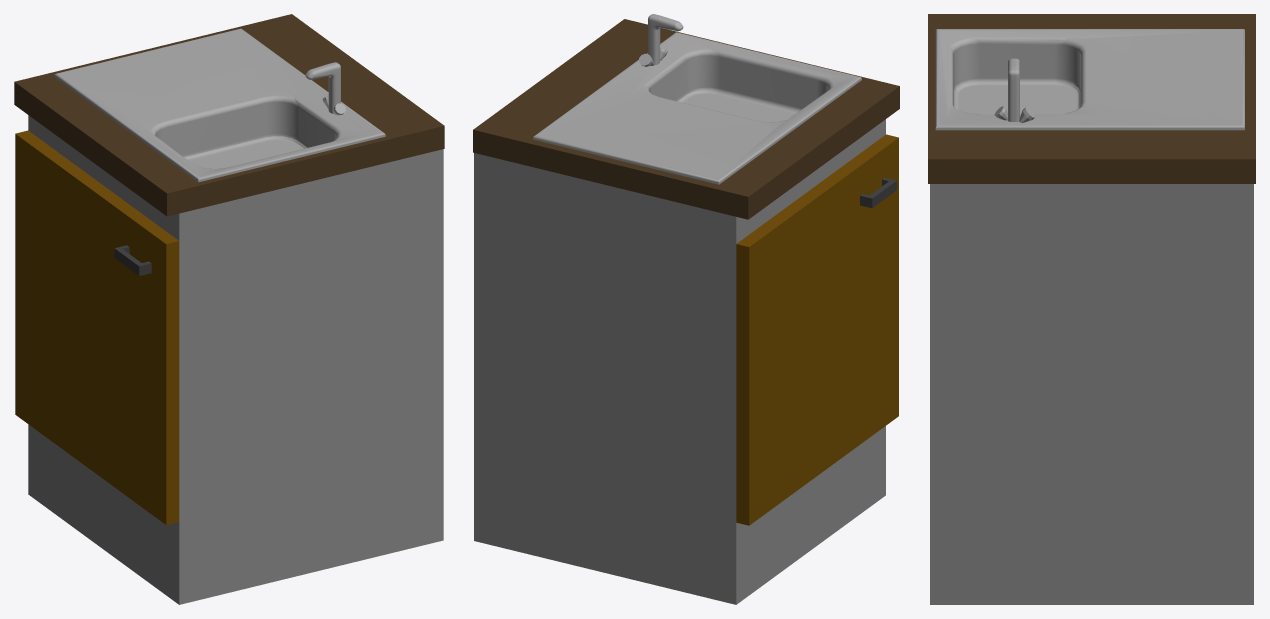
File: KitchenCounterSink.fbx
3 views of the same model, side by side, from view 1: azimuth 30°, elevation 25°; view 2: azimuth 150°, elevation 25°; view 3: azimuth 270°, elevation 25° (orthographic). The views are drawn at different scales.
Visible parts, largest first — view 1: pCube10, pCube9, pCube12, pCube11; view 2: pCube10, pCube9, pCube12, pCube11; view 3: pCube10, pCube9, pCube12.
Boxes of the visible parts, box(x1,y1,x2,y2) form: pCube10: box(14, 14, 444, 604); pCube9: box(54, 28, 385, 182); pCube12: box(305, 62, 340, 113); pCube11: box(114, 245, 151, 275); pCube10: box(473, 19, 899, 604); pCube9: box(533, 32, 861, 184); pCube12: box(648, 14, 683, 64); pCube11: box(860, 177, 896, 208); pCube10: box(928, 14, 1255, 604); pCube9: box(935, 29, 1244, 130); pCube12: box(1008, 58, 1019, 121).
Size of the model in its own units: 1.1 by 1.68 by 1.
